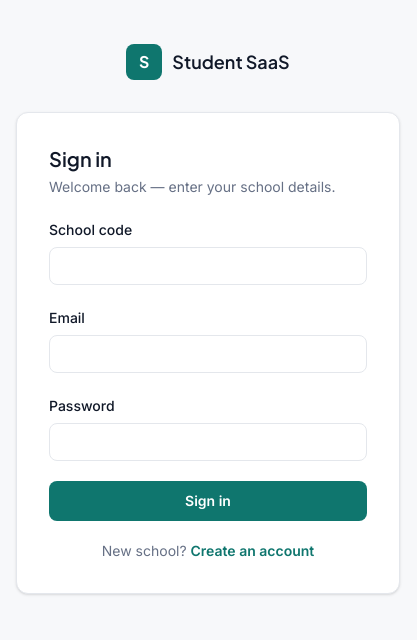
Test: Login page › shows the server's error message and does not navigate on failed login
Type "acme-school" into the field labelled "School code" at [208, 266], box [49,247,367,285]
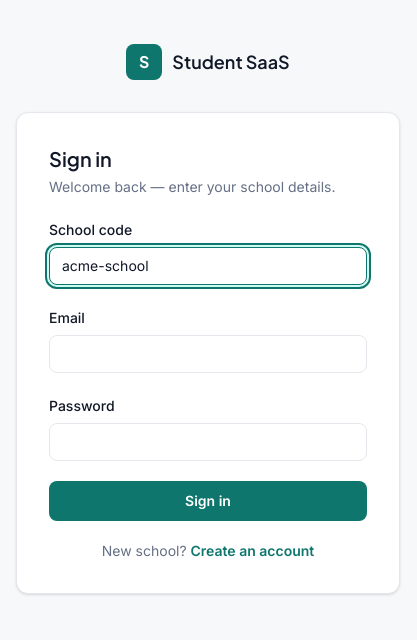
Type "admin@acmeschool.com" into the field labelled "Email" at [208, 354], box [49,335,367,373]
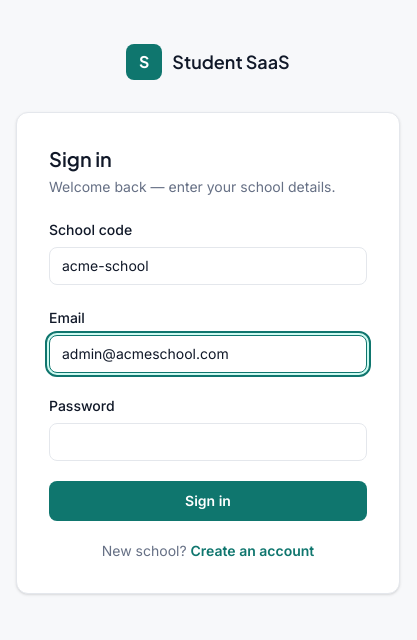
Type "wrongpass" into the password field labelled "Password" at [208, 442], box [49,423,367,461]
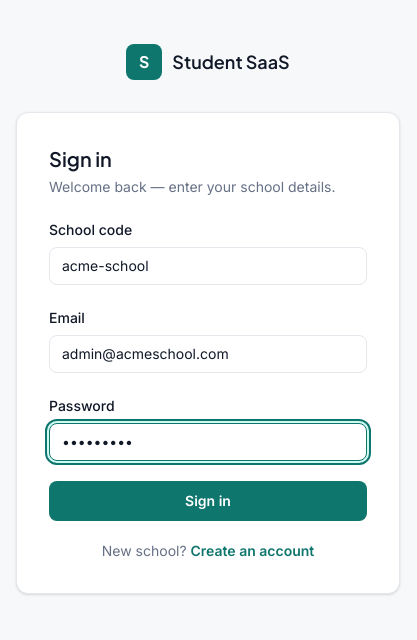
Click the button "Sign in" at [208, 501], box [49,481,367,521]
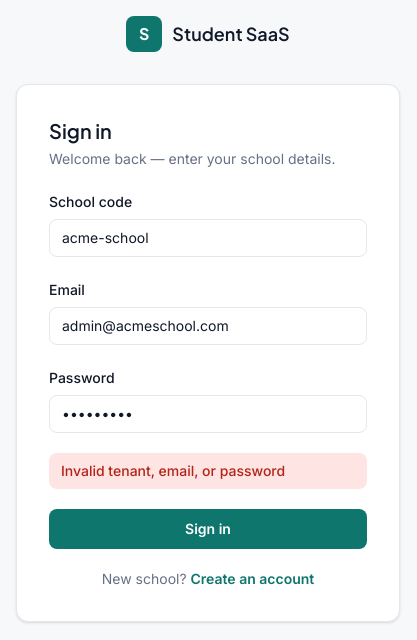
Expected: the text "Invalid tenant, email, or password" is shown, [49,453,367,489]
